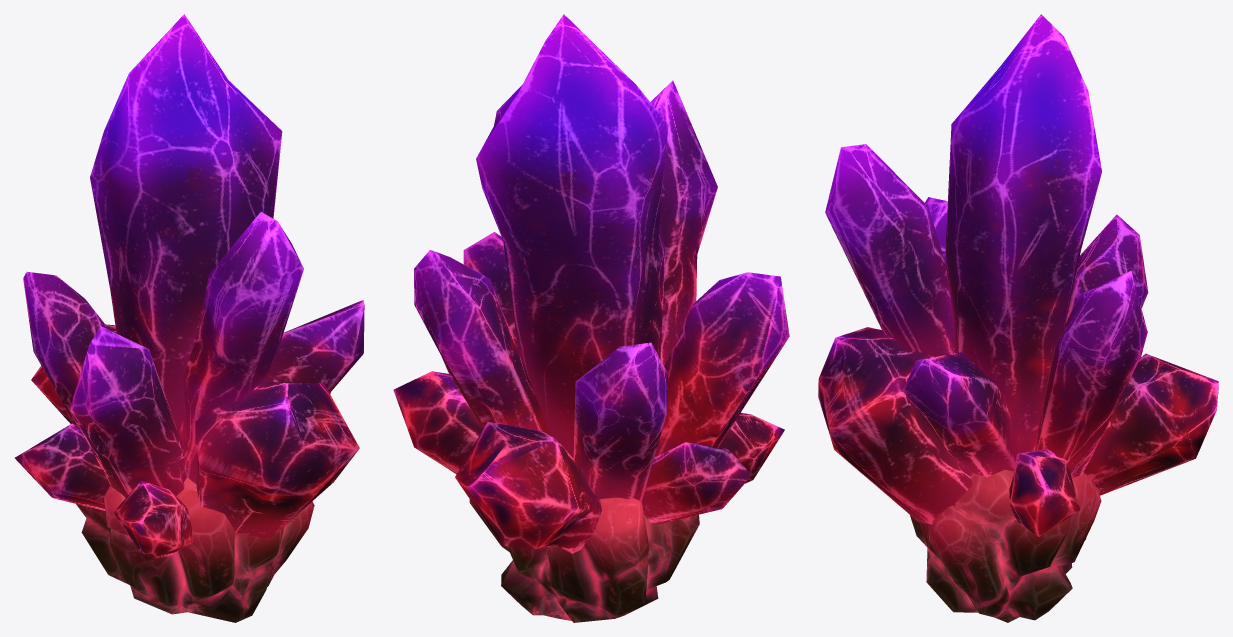
Rendered from crystal_03.glb.
3 renders of one model, left to right at view 1: azimuth 30°, elevation 25°; view 2: azimuth 150°, elevation 25°; view 3: azimuth 270°, elevation 25°, orthographic. The views are drawn at different scales.
Visible parts, largest first — view 1: Object_2; view 2: Object_2; view 3: Object_2.
Boxes of the visible parts, x1,y1,x2,y2 form: Object_2: (15, 14, 364, 622); Object_2: (393, 14, 789, 622); Object_2: (818, 14, 1218, 622).
Bounding box in the file's own units: 24.93 × 42.47 × 25.66.
1 material, 1 textured.
